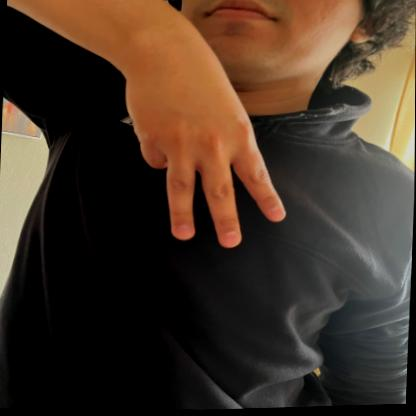M: (122, 49, 297, 255)
